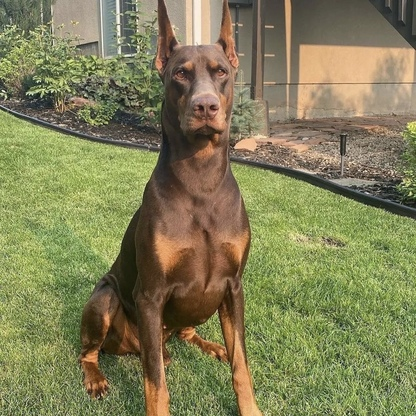doberman: (74, 6, 267, 411)
